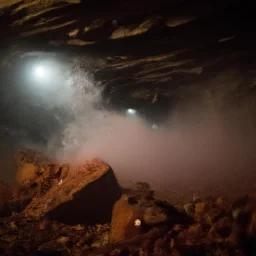smoke: (3, 61, 256, 207)
